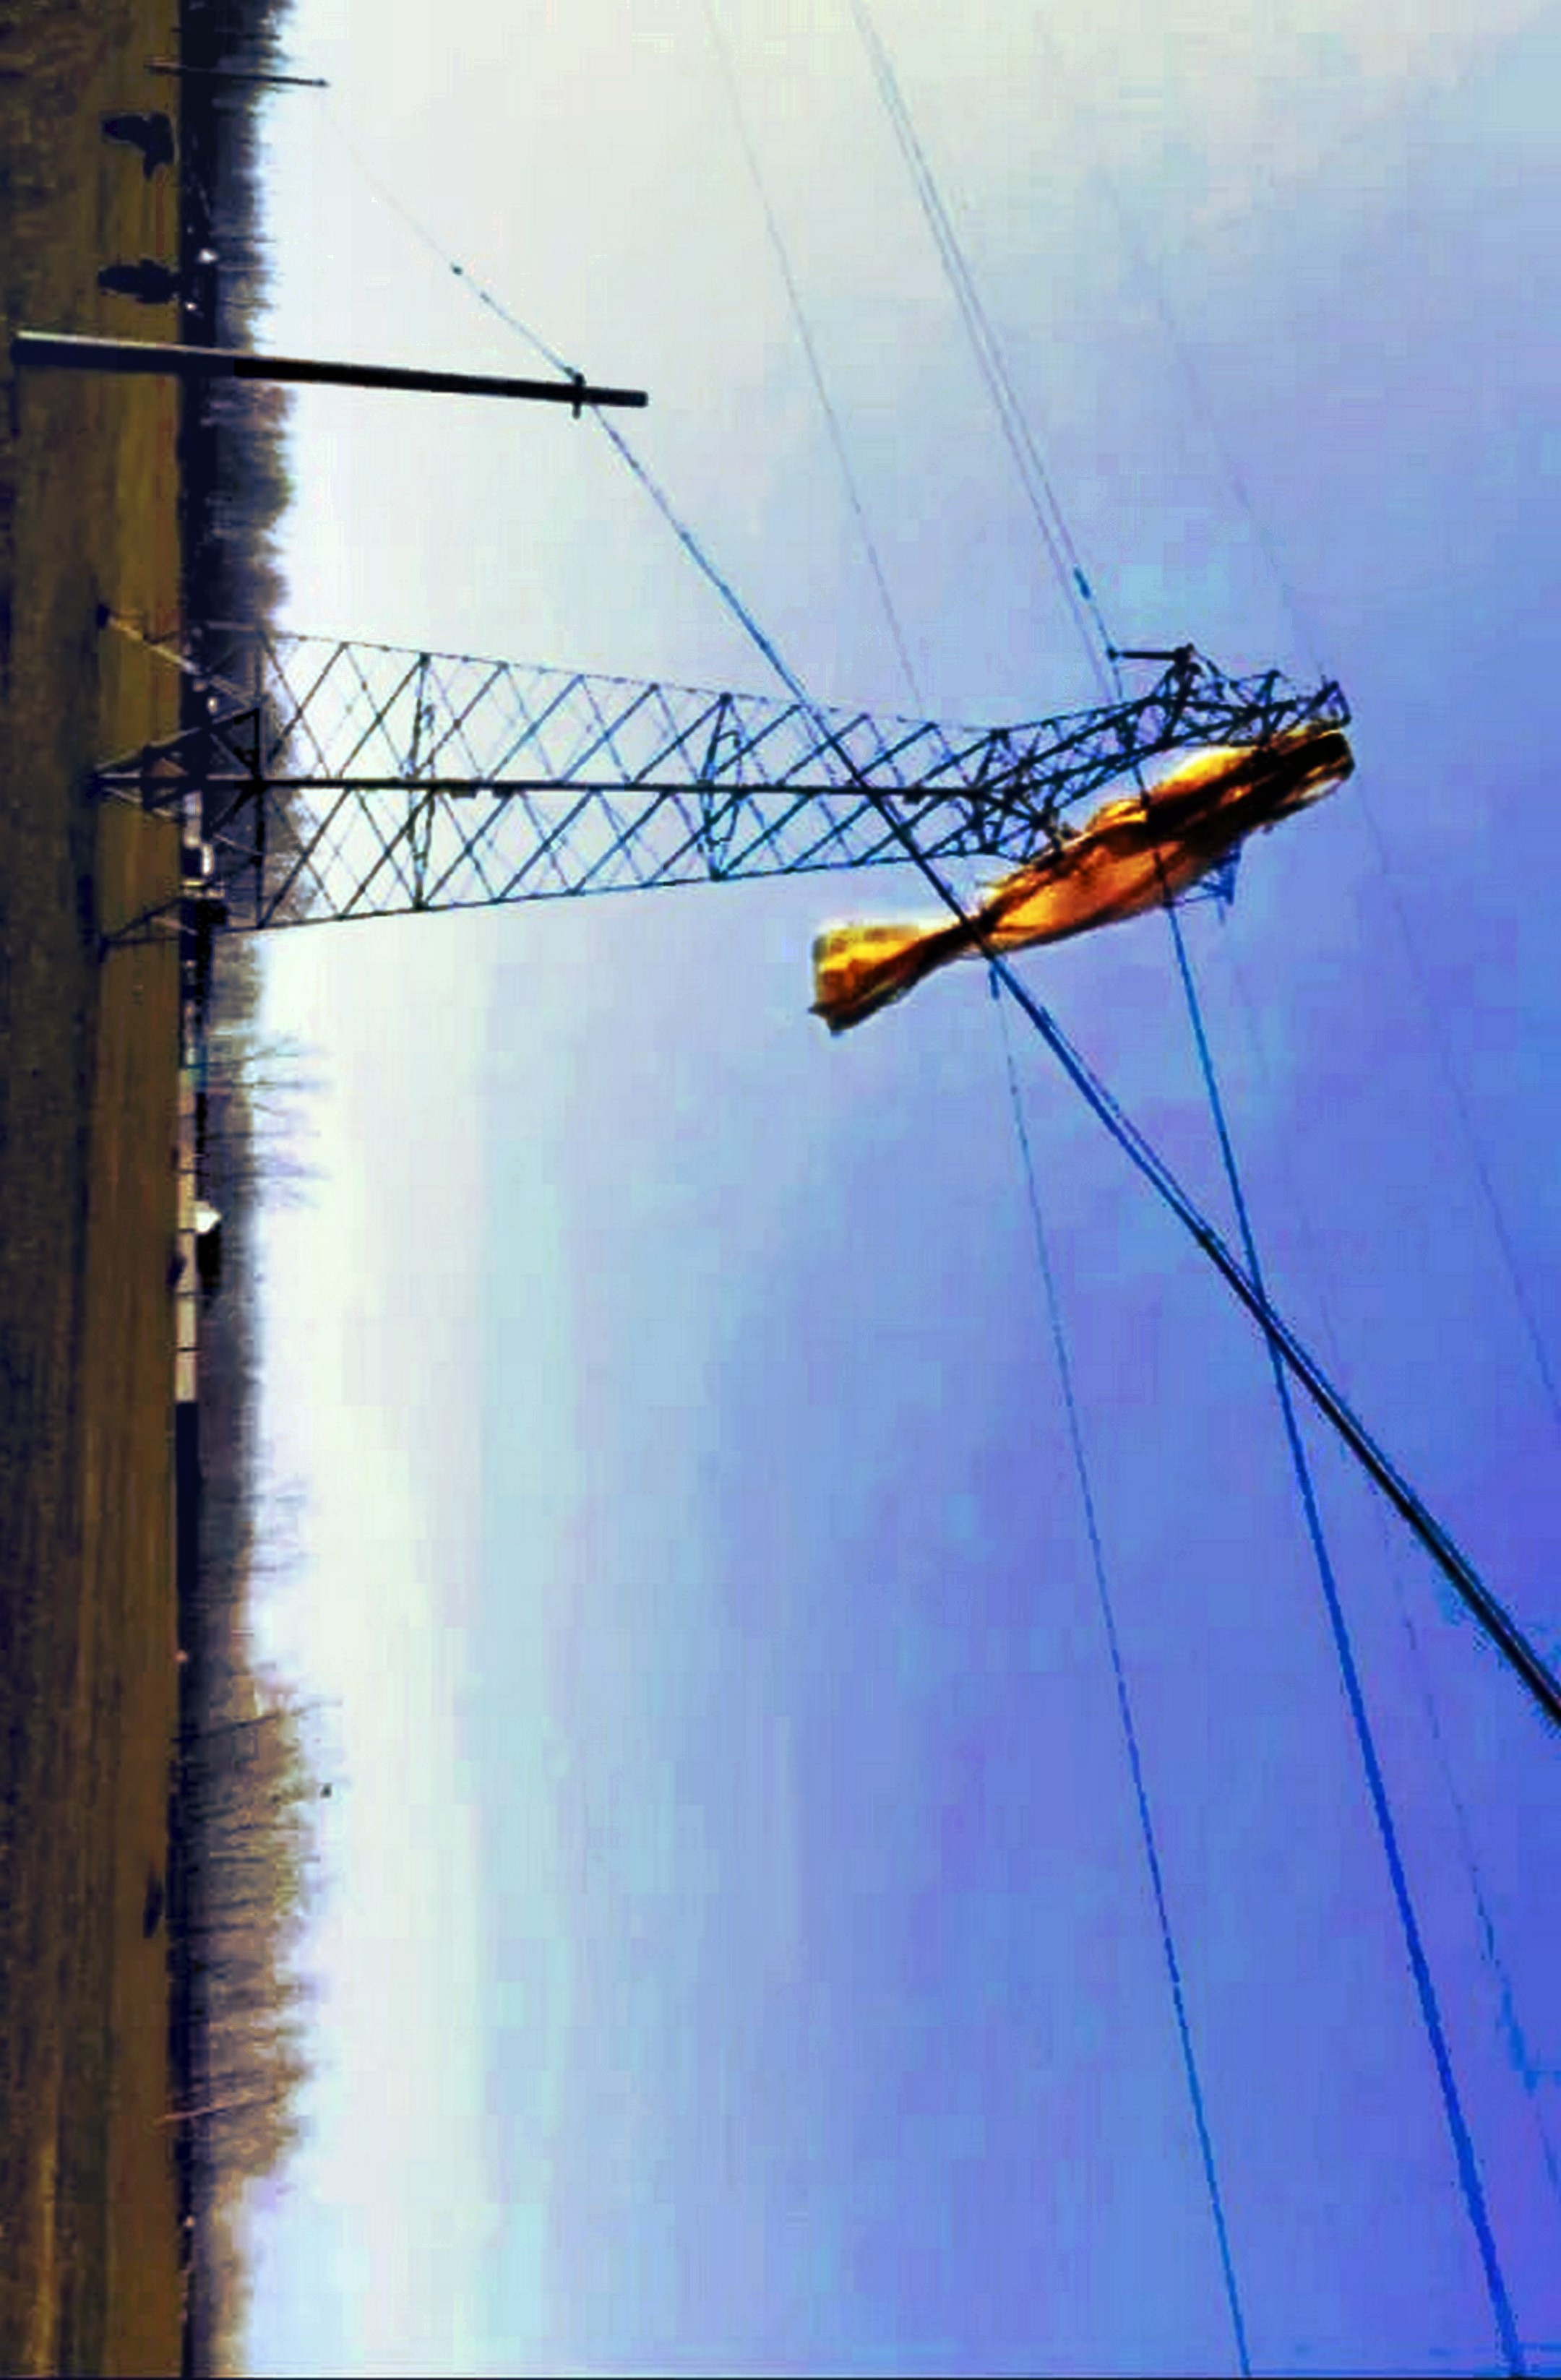wire foreign body: (794, 698, 1392, 1067)
